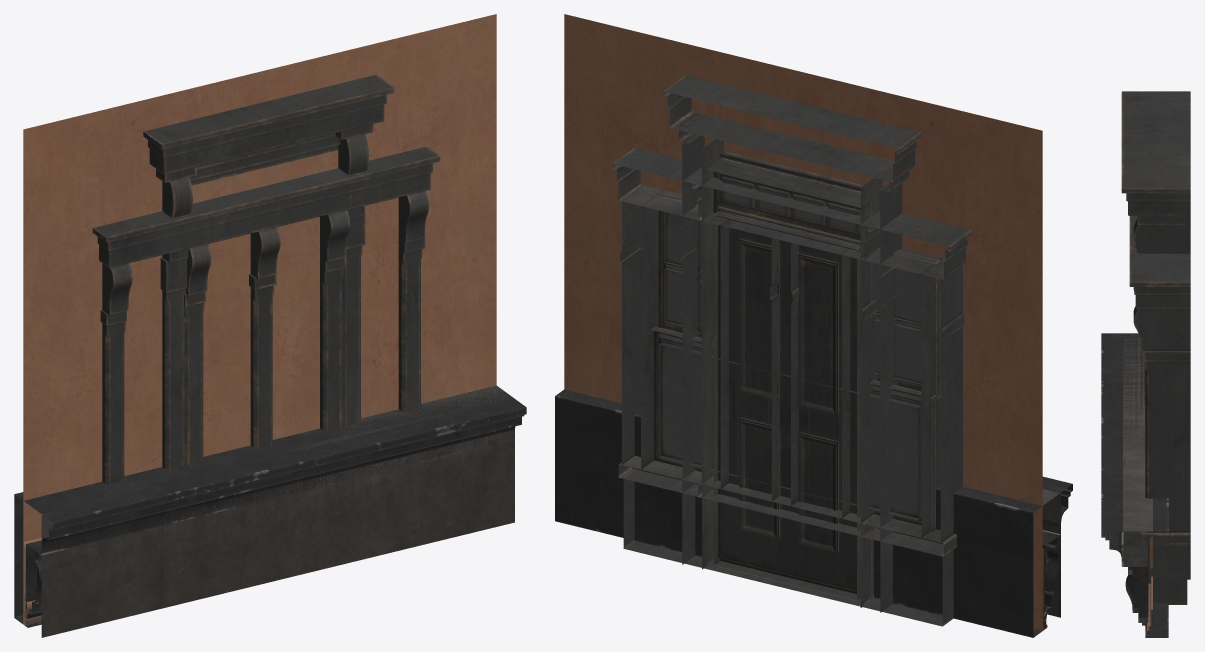
Rendered from street-kit.gltf.
3 views of the same model, side by side, from view 1: azimuth 30°, elevation 25°; view 2: azimuth 150°, elevation 25°; view 3: azimuth 270°, elevation 25° (orthographic). The views are drawn at different scales.
Visible parts, largest first — view 1: wall_door_centered_small_01, wall_window_centered_large_01, base_standard_01, window_centered_large_01, crown_standard_standard_01, door_centered_small_01, wall_standard_standard_01, window_centered_small_01, wall_window_centered_small_01; view 2: door_centered_small_01, wall_window_centered_large_01, window_centered_large_01, crown_standard_standard_01, wall_door_centered_small_01, window_centered_small_01, wall_window_centered_small_01, wall_standard_standard_01, base_standard_01; view 3: window_centered_large_01, door_centered_small_01, crown_standard_standard_01, base_standard_01, cornice_standard_standard_01, window_centered_small_01.
Boxes of the visible parts, x1,y1,x2,y2 form: wall_door_centered_small_01: (23, 14, 496, 623); wall_window_centered_large_01: (23, 14, 496, 624); base_standard_01: (41, 385, 514, 637); window_centered_large_01: (92, 146, 440, 484); crown_standard_standard_01: (14, 386, 526, 627); door_centered_small_01: (143, 74, 394, 469); wall_standard_standard_01: (186, 62, 333, 456); window_centered_small_01: (182, 168, 361, 464); wall_window_centered_small_01: (83, 34, 417, 424); door_centered_small_01: (663, 75, 921, 612); wall_window_centered_large_01: (564, 14, 1042, 630); window_centered_large_01: (612, 148, 972, 626); crown_standard_standard_01: (555, 389, 1072, 637); wall_door_centered_small_01: (564, 14, 1042, 618); window_centered_small_01: (692, 177, 880, 606); wall_window_centered_small_01: (644, 34, 982, 490); wall_standard_standard_01: (723, 54, 902, 244); base_standard_01: (1042, 489, 1060, 617); window_centered_large_01: (1129, 218, 1190, 604); door_centered_small_01: (1121, 91, 1190, 579); crown_standard_standard_01: (1101, 333, 1168, 637); base_standard_01: (1121, 333, 1152, 532); cornice_standard_standard_01: (1146, 576, 1152, 626); window_centered_small_01: (1129, 216, 1137, 290).
Bounding box in the file's own units: 3 × 3 × 0.57.
5 materials, 5 textured.
